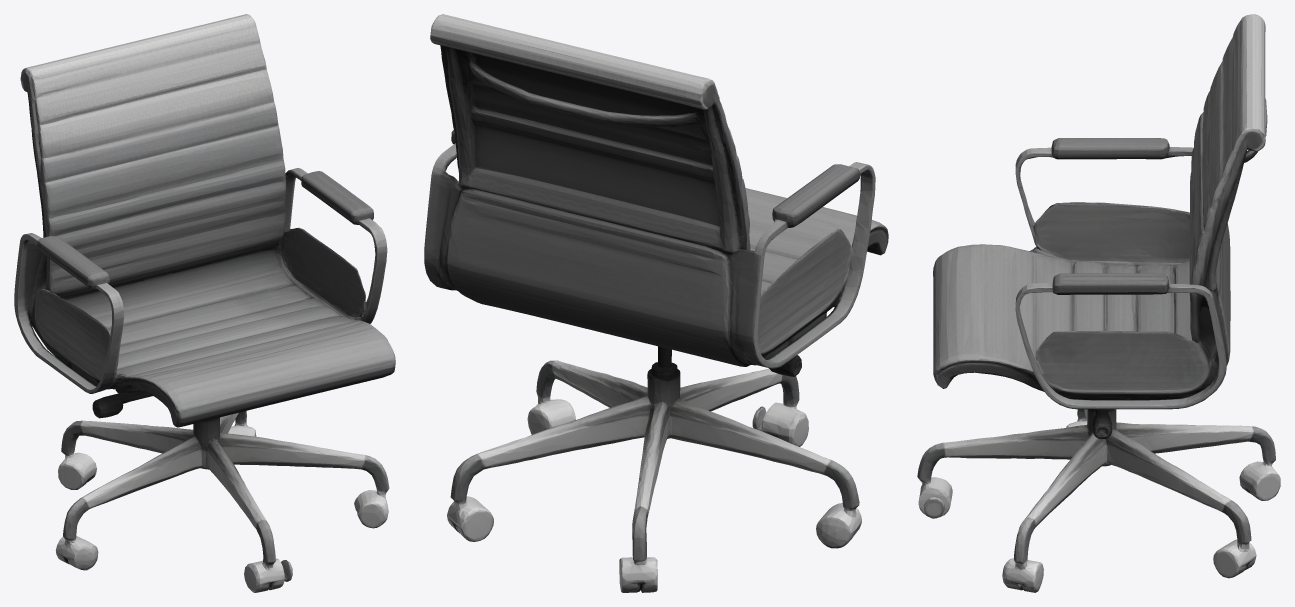
Rendered from VoxHammer.glb.
3 views of the same model, side by side, from view 1: azimuth 30°, elevation 25°; view 2: azimuth 150°, elevation 25°; view 3: azimuth 270°, elevation 25° (orthographic). The views are drawn at different scales.
Visible parts, largest first — view 1: world; view 2: world; view 3: world.
Boxes of the visible parts, x1,y1,x2,y2 form: world: (14,14,395,592); world: (424,14,888,592); world: (917,14,1280,592).
Bounding box in the file's own units: 0.471 × 0.6504 × 0.4713.
Materials: 1 (1 with a texture image).
